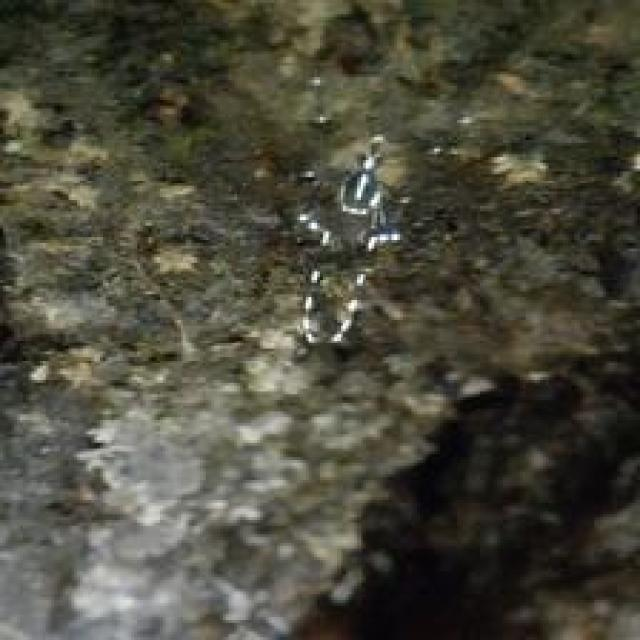Aedes albopictus: (260, 72, 414, 357)
